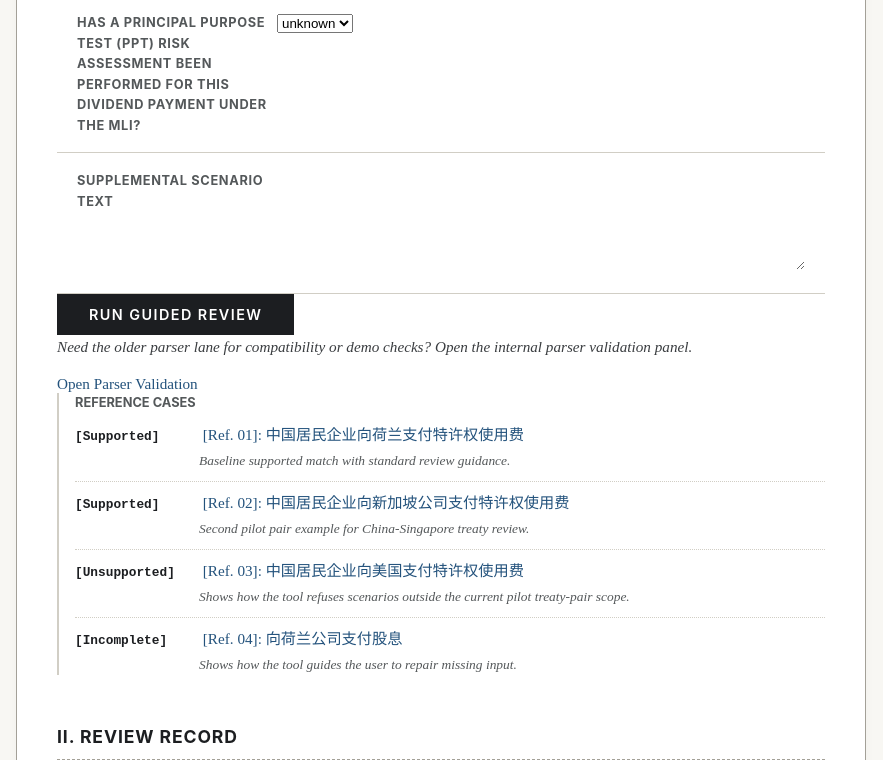
Test case: shows a stronger review warning for medium-confidence treaty extraction
(page scrolled)
Click the button "Open Parser Validation".
click(127, 384)  # box [57,375,198,393]
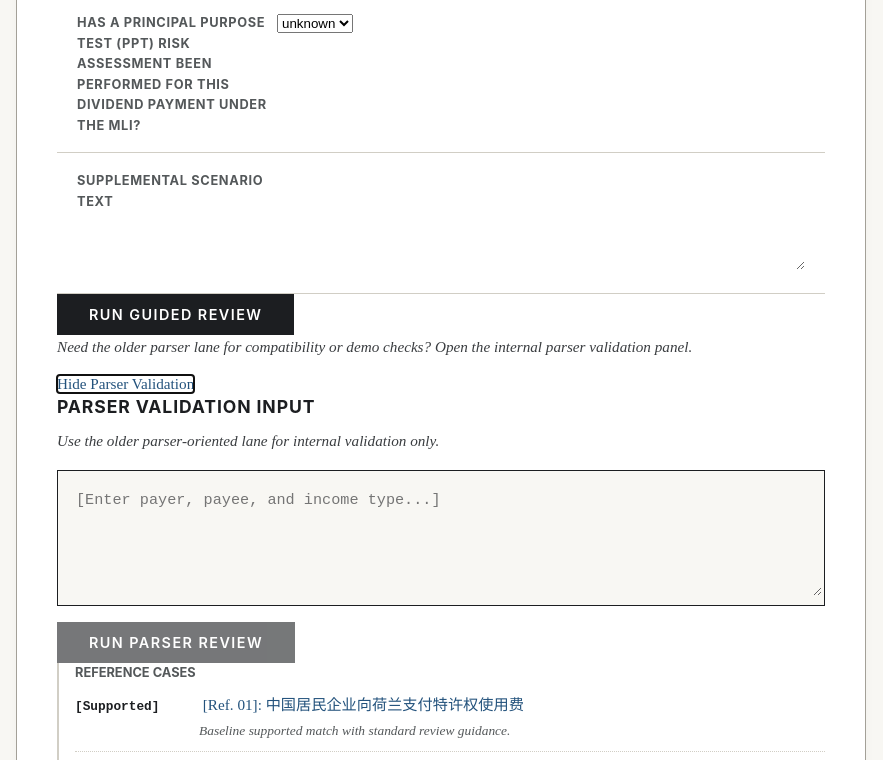
Type "中国居民企业向荷兰支付特许权使用费" into the text box named "cross-border scenario".
click(441, 534); type("中国居民企业向荷兰支付特许权使用费")  # box [60,473,822,596]
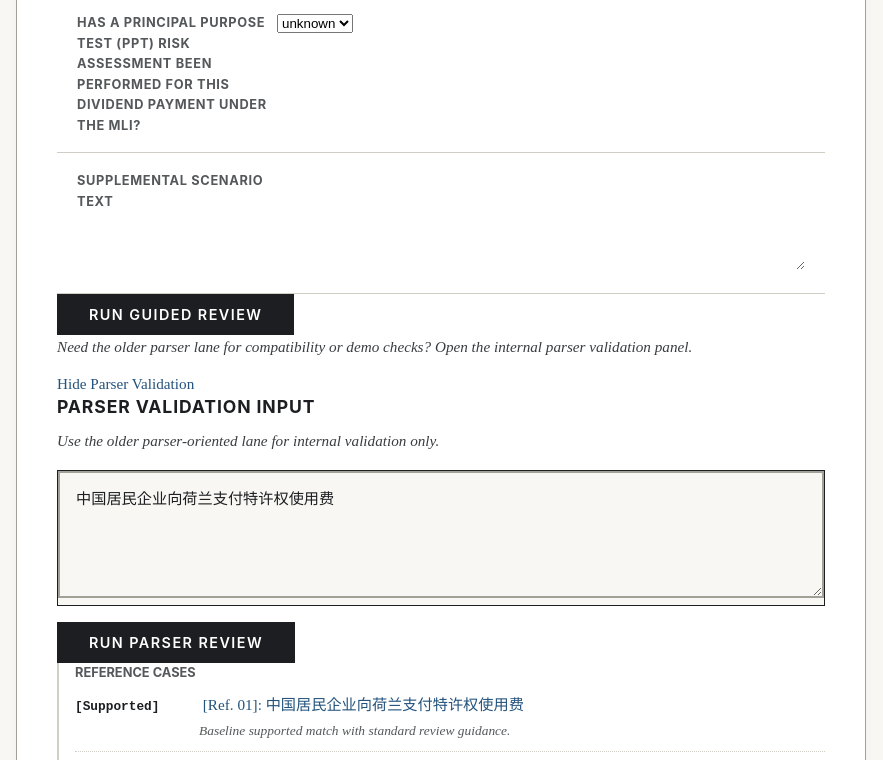
Click the button "Run Parser Review".
click(176, 643)  # box [57,622,295,663]
(page scrolled)
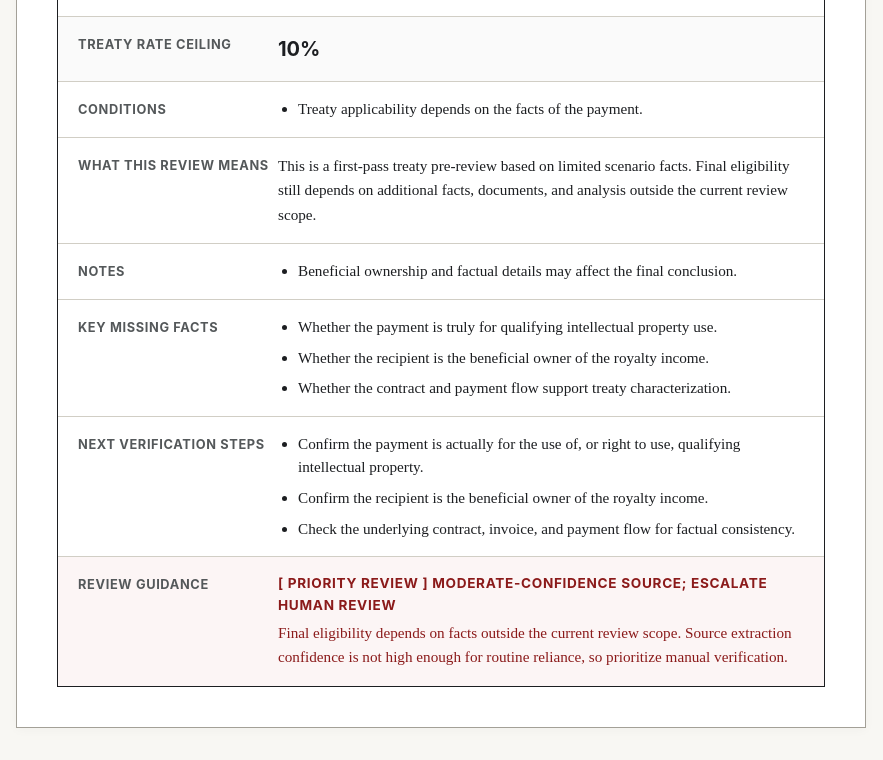
Now the text "[ PRIORITY REVIEW ]" is shown, box [278,575,767,613]
Now the text "prioritize manual verification" is shown, box [278,624,792,665]
